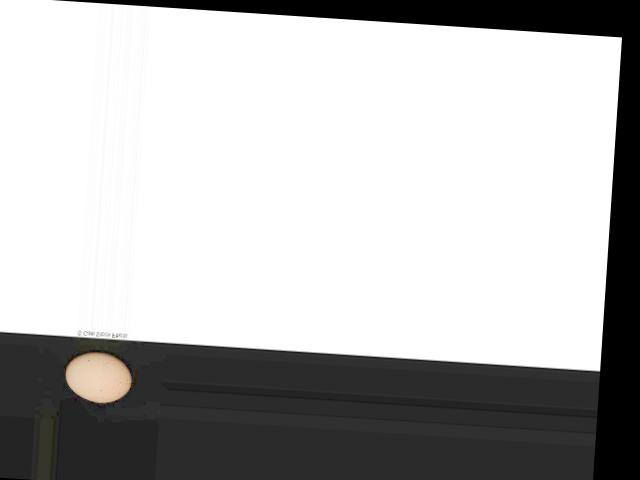egg: (64, 349, 133, 403)
